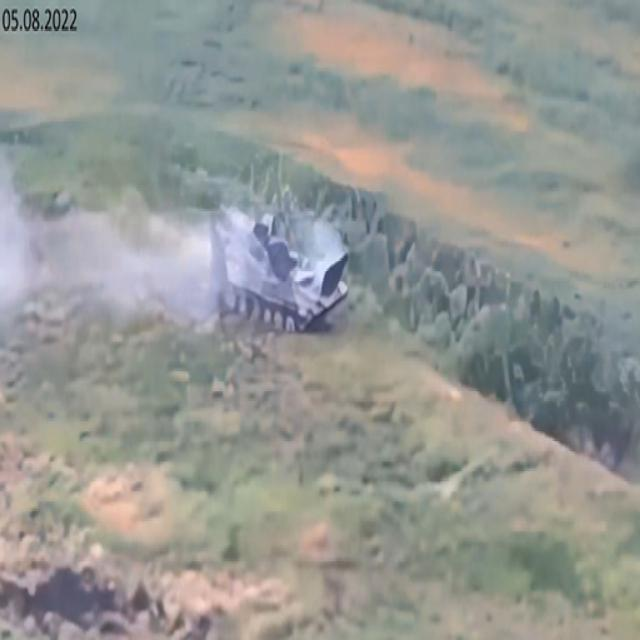APC-IFV: (208, 205, 352, 331)
